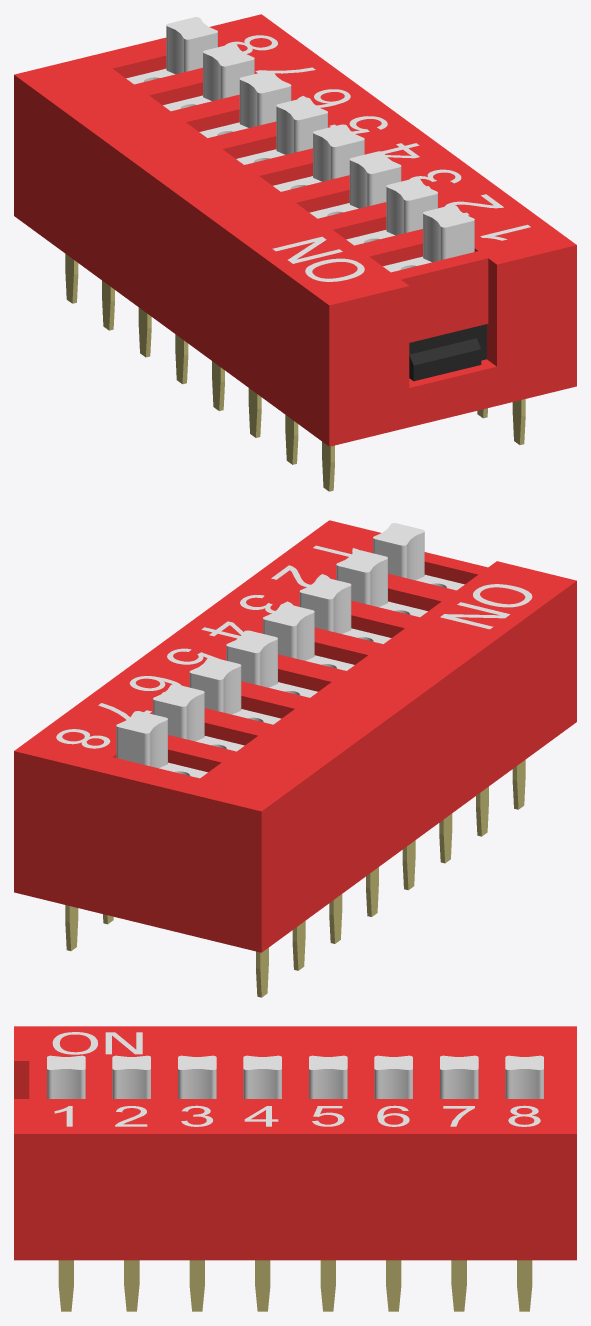
3 views of the same model, one above another, from view 1: azimuth 30°, elevation 25°; view 2: azimuth 150°, elevation 25°; view 3: azimuth 270°, elevation 25° (orthographic). The views are drawn at different scales.
Visible parts, largest first — view 1: =>[0:1:1:3], =>[0:1:1:2]; view 2: =>[0:1:1:3], =>[0:1:1:2]; view 3: =>[0:1:1:3], =>[0:1:1:2].
Part boxes in pixels (x1,y1,x2,y2): =>[0:1:1:3]: [14, 14, 576, 491]; =>[0:1:1:2]: [225, 35, 530, 281]; =>[0:1:1:3]: [14, 520, 576, 997]; =>[0:1:1:2]: [56, 545, 532, 748]; =>[0:1:1:3]: [14, 1026, 576, 1311]; =>[0:1:1:2]: [52, 1032, 540, 1126].
Bounding box in the file's own units: 0.0099 × 0.0093 × 0.0218.
